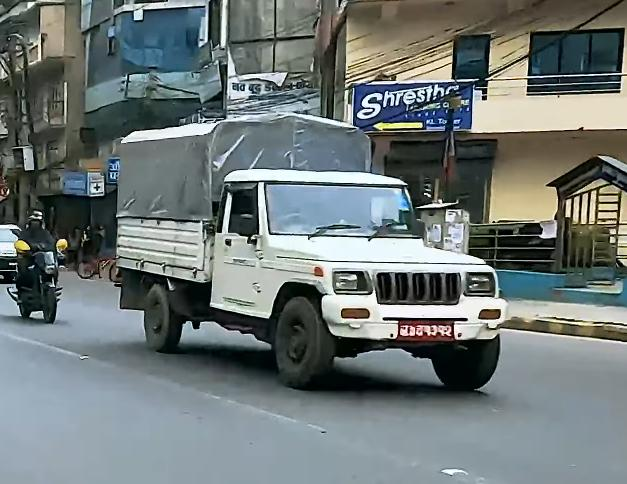bike: (10, 211, 68, 333)
transport_vehicle: (110, 111, 504, 396)
